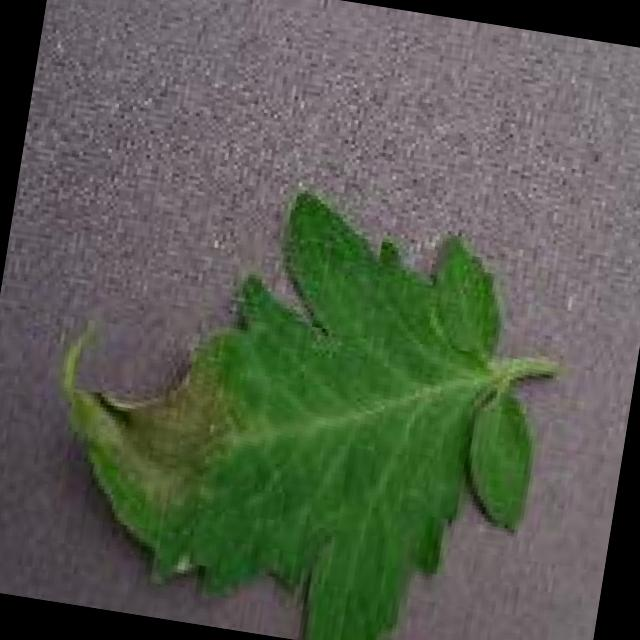leaf blight: (73, 190, 546, 640)
